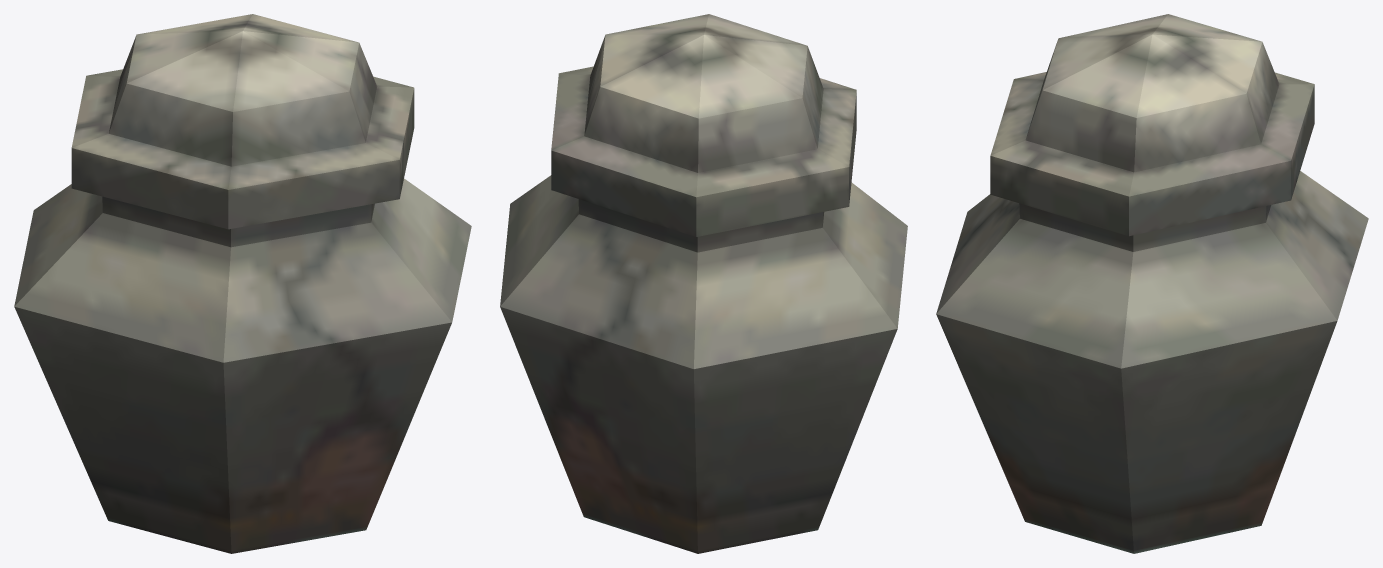
The model's file is crypt_urn01.fbx.
3 renders of one model, left to right at view 1: azimuth 30°, elevation 25°; view 2: azimuth 150°, elevation 25°; view 3: azimuth 270°, elevation 25°, orthographic.
Parts seen in each view (by area): view 1: obj0.036; view 2: obj0.036; view 3: obj0.036.
Part boxes in pixels (x1,y1,x2,y2): obj0.036: (14, 14, 471, 553); obj0.036: (500, 14, 907, 553); obj0.036: (936, 14, 1368, 553).
Bounding box in the file's own units: 0.4832 × 0.5055 × 0.4317.
